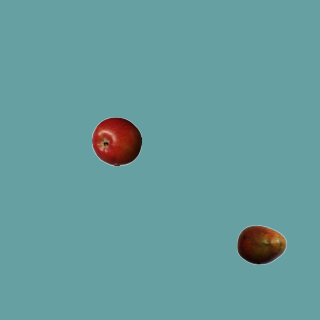Apple Braeburn: (91, 116, 141, 166)
Mango Red: (236, 219, 286, 269)
